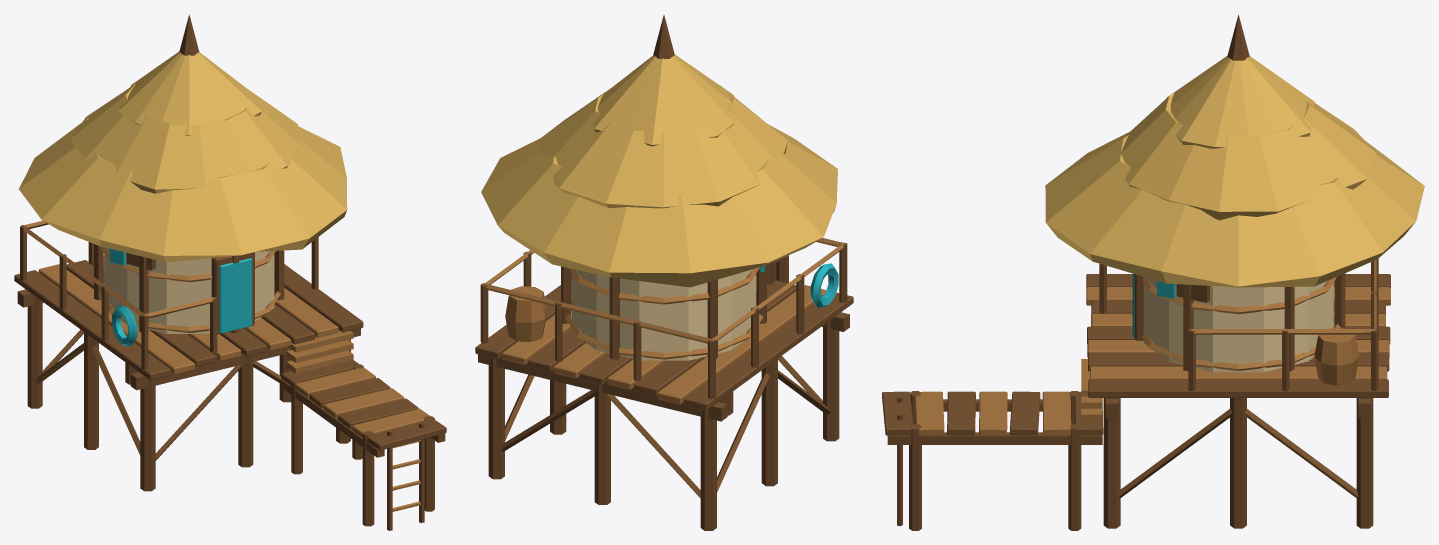
File: stilt_hut.glb
3 views of the same model, side by side, from view 1: azimuth 30°, elevation 25°; view 2: azimuth 150°, elevation 25°; view 3: azimuth 270°, elevation 25° (orthographic). The views are drawn at different scales.
Parts seen in each view (by area): view 1: stilt_hut; view 2: stilt_hut; view 3: stilt_hut.
Boxes of the visible parts, x1,y1,x2,y2 form: stilt_hut: (14,14,446,530); stilt_hut: (475,15,853,530); stilt_hut: (882,14,1424,530).
Bounding box in the file's own units: 4.13 × 5.5 × 5.8.
